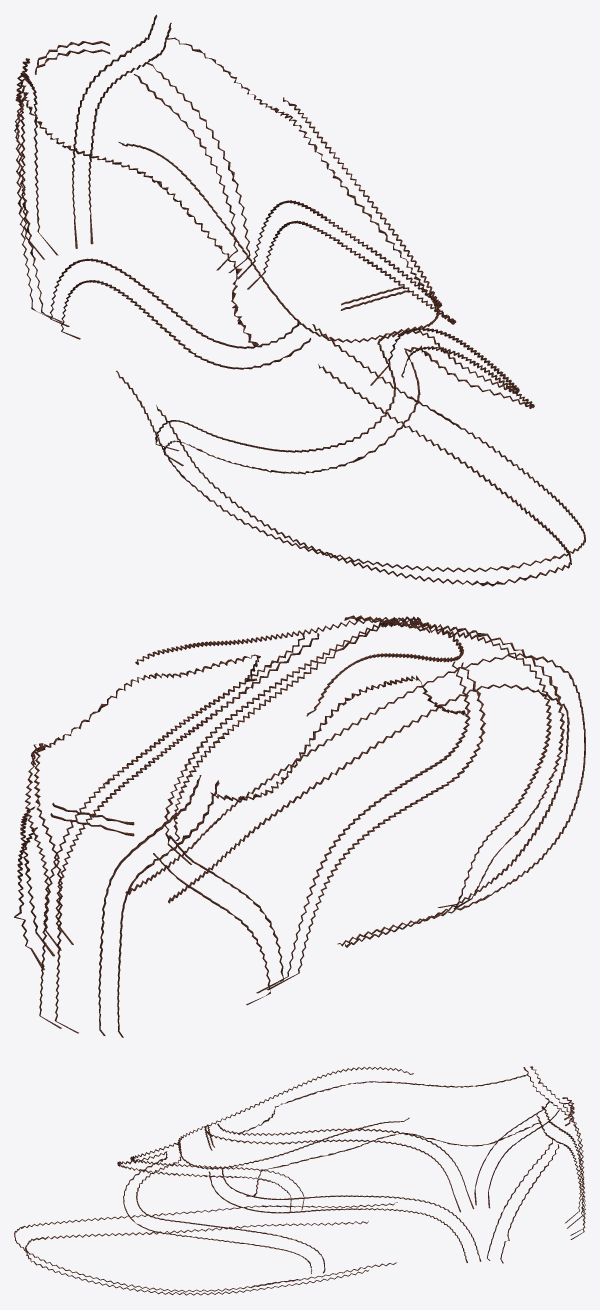
Rendered from shoeline.obj.
3 renders of one model, top to bottom at view 1: azimuth 30°, elevation 25°; view 2: azimuth 150°, elevation 25°; view 3: azimuth 270°, elevation 25°, orthographic. The views are drawn at different scales.
Visible parts, largest first — view 1: shoeline; view 2: shoeline; view 3: shoeline.
Part boxes in pixels (box(x1,y1,x2,y2)): shoeline: box(14, 14, 585, 586); shoeline: box(14, 615, 585, 1037); shoeline: box(14, 1066, 585, 1295).
Bounding box in the file's own units: 3.49 × 3.37 × 10.1.
